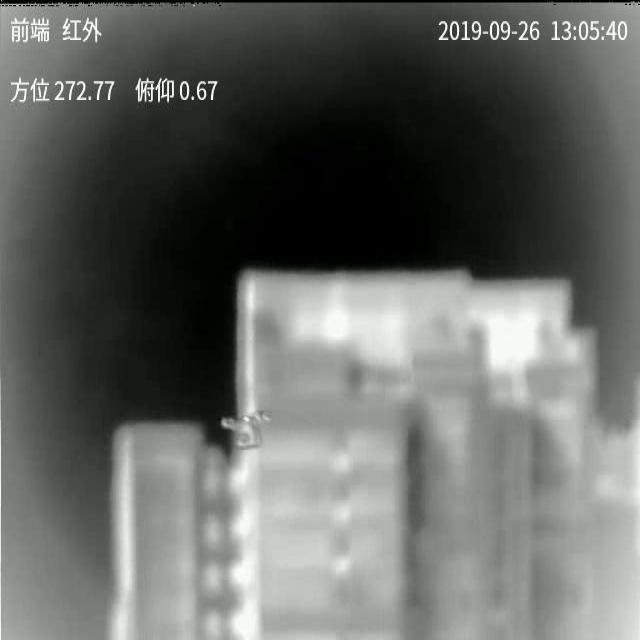drone: (221, 412, 271, 451)
